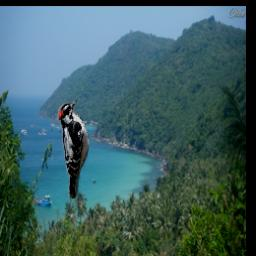Woodpecker: (57, 100, 89, 199)
